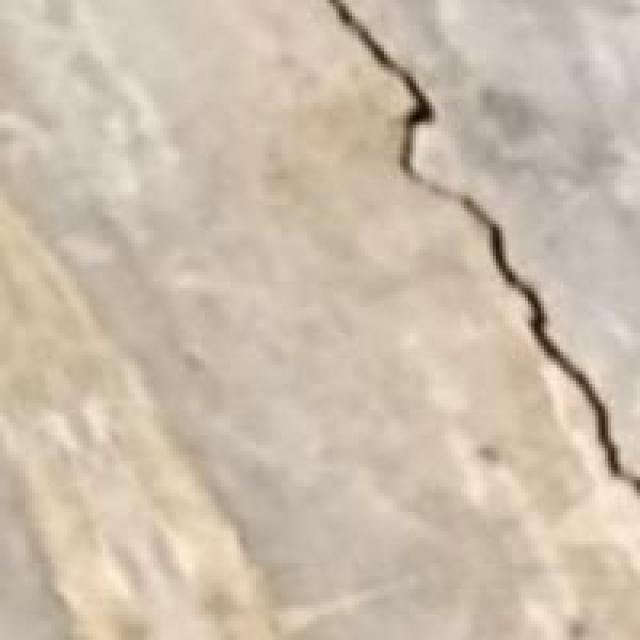Crack: (312, 0, 638, 509)
